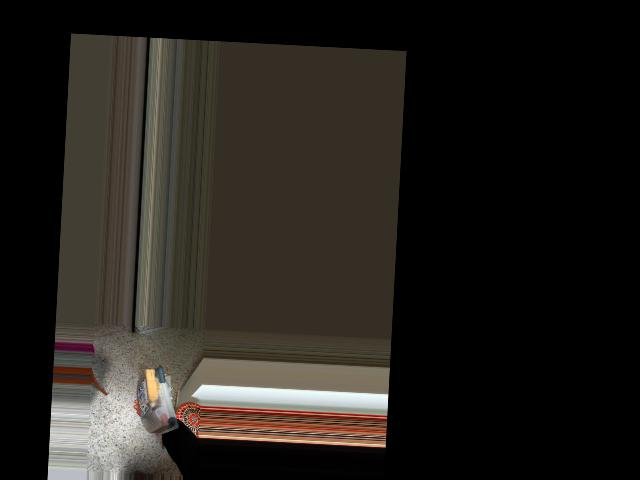cheese: (134, 362, 187, 434)
